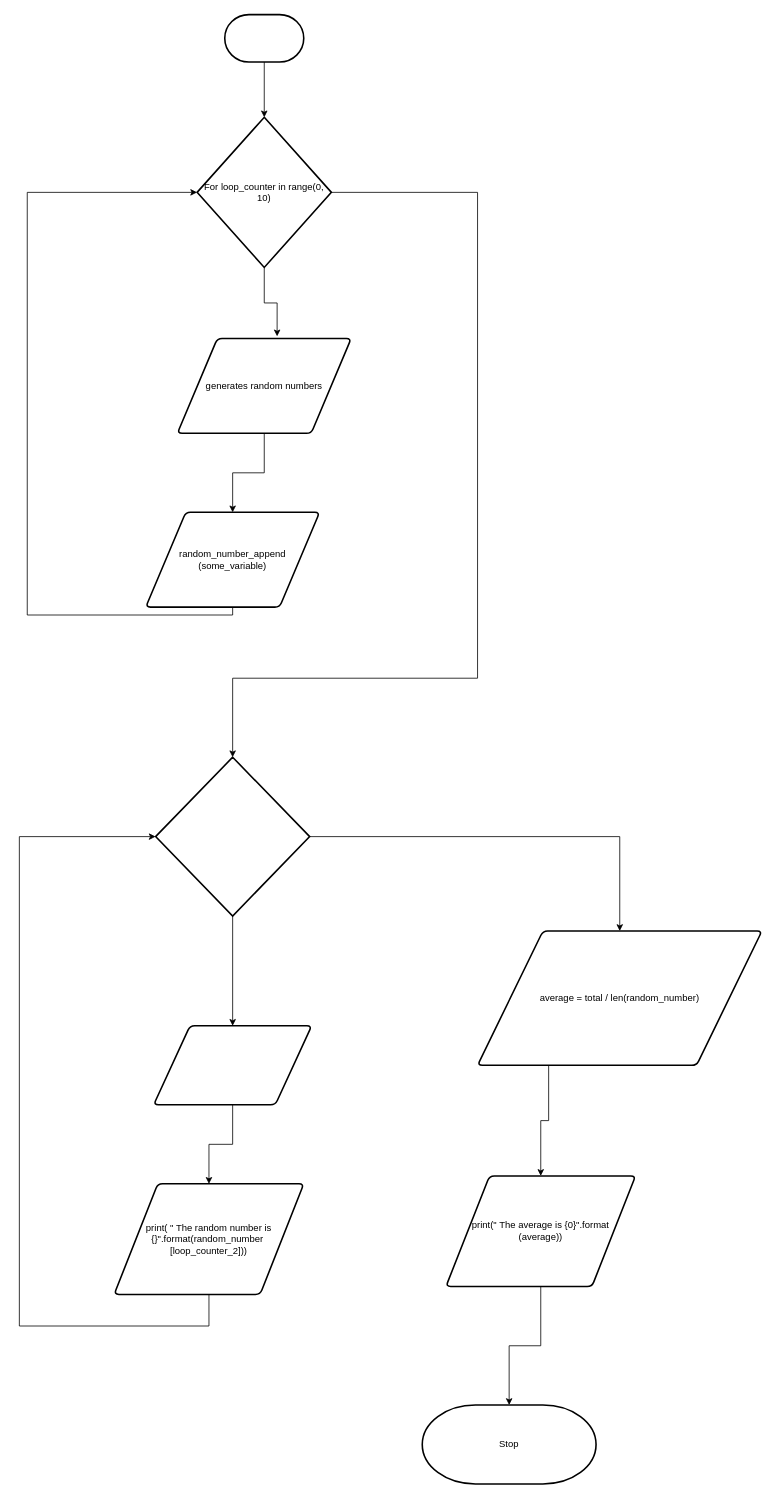
Image size: 777x1498. Some labels were removed from this diagram. Each missing label, with the box of its shape:
loop_counter_2 to range(0, len(random_number)): (154, 756, 310, 916)
Start: (224, 13, 304, 62)
total = total + random_number [loop_counter_2]: (152, 1025, 312, 1105)
